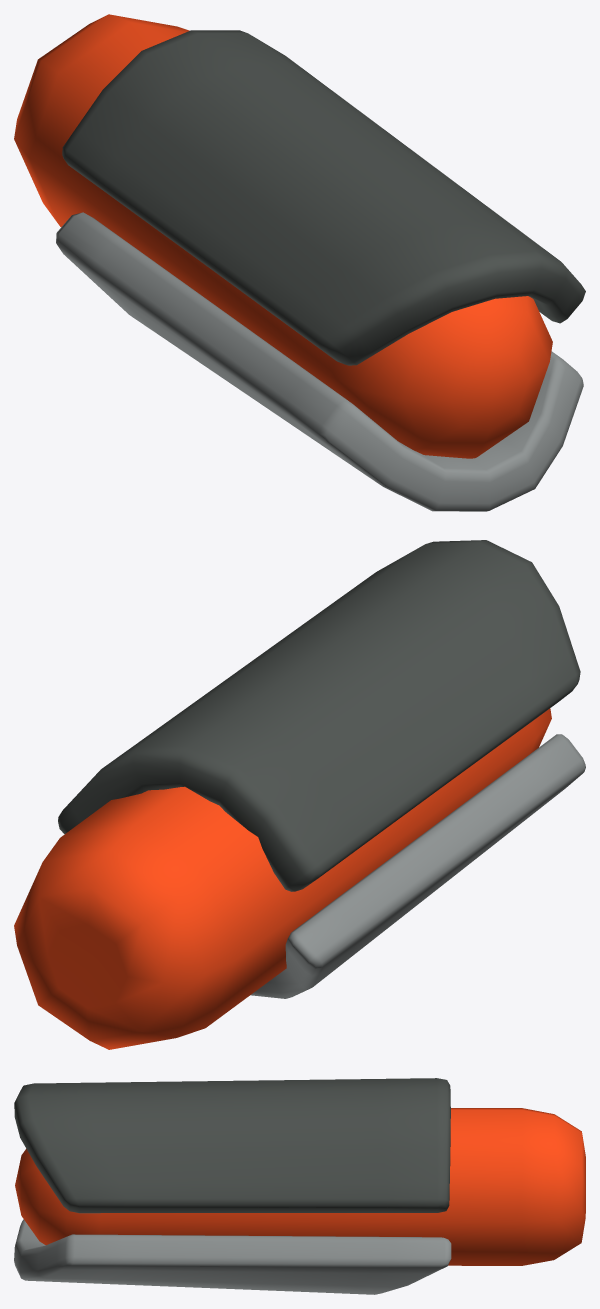
File: xsens_RightThirdPP.dae
3 views of the same model, one above another, from view 1: azimuth 30°, elevation 25°; view 2: azimuth 150°, elevation 25°; view 3: azimuth 270°, elevation 25° (orthographic). The views are drawn at different scales.
Parts seen in each view (by area): view 1: RightThirdPP; view 2: RightThirdPP; view 3: RightThirdPP.
Boxes of the visible parts, x1=… form: RightThirdPP: x1=14, y1=14, x2=585, y2=511; RightThirdPP: x1=14, y1=540, x2=585, y2=1049; RightThirdPP: x1=14, y1=1078, x2=585, y2=1294.
Bounding box in the file's own units: 0.0188 × 0.0497 × 0.0189.
